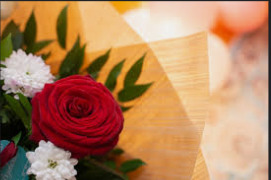RedRose: (26, 71, 127, 159)
